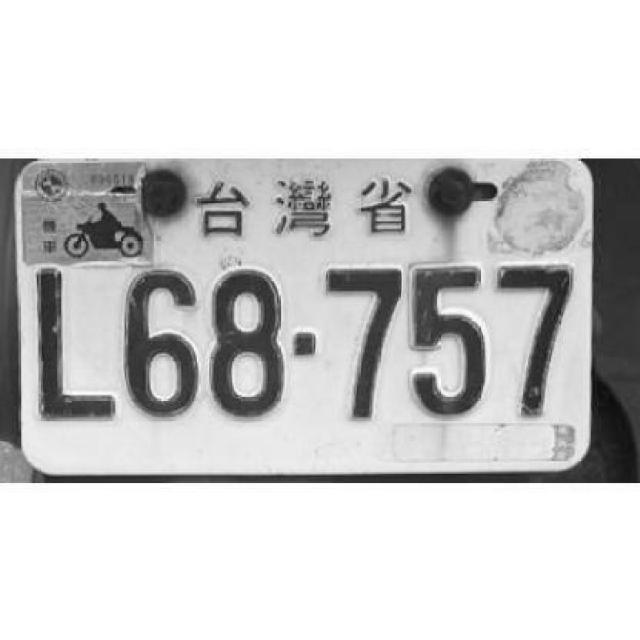-: (291, 328, 318, 360)
5: (402, 254, 491, 418)
6: (117, 260, 203, 422)
7: (491, 251, 582, 417), (322, 255, 406, 423)
8: (204, 254, 284, 423)
L: (29, 260, 114, 425)
